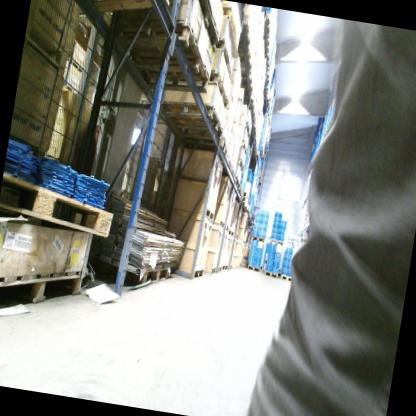pallet: (99, 12, 217, 101), (0, 172, 122, 229), (0, 255, 88, 333), (96, 247, 174, 299), (157, 96, 227, 142), (65, 0, 175, 25), (168, 126, 230, 158), (204, 33, 240, 76), (204, 73, 232, 106), (237, 15, 257, 54), (234, 51, 254, 82), (241, 95, 257, 121), (239, 75, 255, 98), (261, 13, 273, 37), (240, 119, 252, 139), (279, 273, 296, 284), (239, 141, 249, 158), (221, 153, 231, 170), (251, 234, 266, 245), (260, 40, 271, 54), (261, 83, 269, 102), (235, 158, 245, 173), (319, 127, 329, 142), (268, 237, 284, 246), (246, 263, 261, 272), (247, 144, 259, 155), (264, 270, 279, 278), (227, 168, 236, 181), (248, 151, 260, 160), (248, 126, 256, 139), (263, 69, 269, 86), (264, 56, 271, 70), (238, 186, 245, 199), (258, 143, 265, 156), (262, 105, 270, 116), (249, 138, 258, 147), (241, 196, 250, 204), (263, 96, 269, 107), (242, 190, 250, 198), (235, 180, 241, 190), (267, 116, 272, 127), (242, 201, 249, 207), (243, 205, 251, 210), (244, 210, 250, 216), (248, 213, 252, 220)
small_load_carrier: (267, 239, 276, 250), (281, 259, 289, 269), (271, 258, 281, 266), (253, 221, 261, 231), (283, 246, 292, 254), (264, 264, 273, 272), (260, 216, 268, 225), (282, 252, 290, 260), (253, 260, 261, 268), (254, 249, 262, 257), (258, 229, 266, 237), (275, 245, 282, 254), (255, 213, 262, 222), (256, 207, 263, 216), (265, 259, 273, 266), (247, 258, 255, 265), (253, 227, 260, 235), (272, 252, 281, 258), (248, 248, 255, 255), (256, 243, 263, 250), (262, 210, 269, 217), (270, 231, 277, 238), (277, 228, 284, 235), (276, 234, 283, 241), (271, 266, 279, 272), (247, 254, 255, 260), (278, 223, 286, 229), (282, 267, 288, 274), (267, 253, 273, 260), (249, 243, 256, 249), (274, 211, 281, 217), (273, 216, 280, 222), (271, 226, 278, 232), (280, 218, 287, 224), (267, 249, 275, 254), (255, 255, 261, 261), (260, 223, 266, 229), (273, 221, 279, 227)
